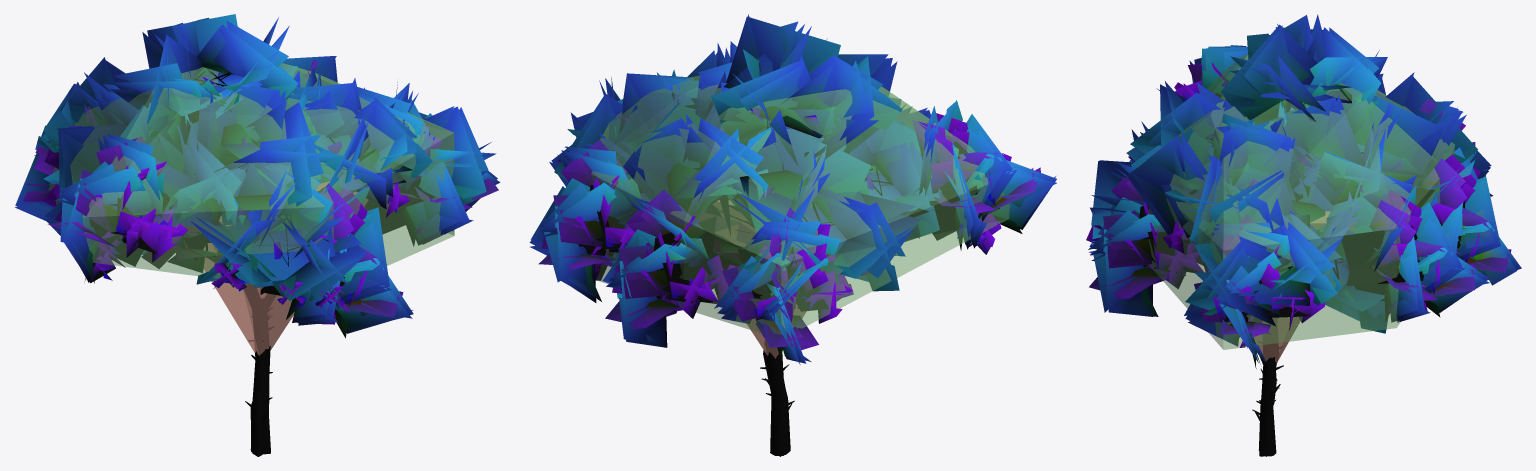
The model's file is maritime_pine.dae.
The picture shows the model from 3 angles, left to right: view 1: azimuth 30°, elevation 25°; view 2: azimuth 150°, elevation 25°; view 3: azimuth 270°, elevation 25°; orthographic projection. The views are drawn at different scales.
Parts seen in each view (by area): view 1: maritime_pine_b1400, Colmesh-1, maritime_pine_b850, maritime_pine_b400; view 2: maritime_pine_b1400, Colmesh-1, maritime_pine_b850, maritime_pine_b400; view 3: maritime_pine_b1400, Colmesh-1, maritime_pine_b400, maritime_pine_b850.
Part boxes in pixels (x1,y1,x2,y2): maritime_pine_b1400: (15, 14, 500, 456); Colmesh-1: (48, 63, 454, 355); maritime_pine_b850: (15, 24, 497, 456); maritime_pine_b400: (23, 14, 498, 449); maritime_pine_b1400: (530, 14, 1056, 455); Colmesh-1: (587, 75, 1009, 358); maritime_pine_b850: (529, 53, 1056, 455); maritime_pine_b400: (539, 16, 1050, 456); maritime_pine_b1400: (1086, 14, 1516, 456); Colmesh-1: (1148, 54, 1454, 364); maritime_pine_b400: (1089, 15, 1516, 456); maritime_pine_b850: (1086, 46, 1521, 456).
Size of the model in its own units: 13.54 by 11.43 by 12.02.
